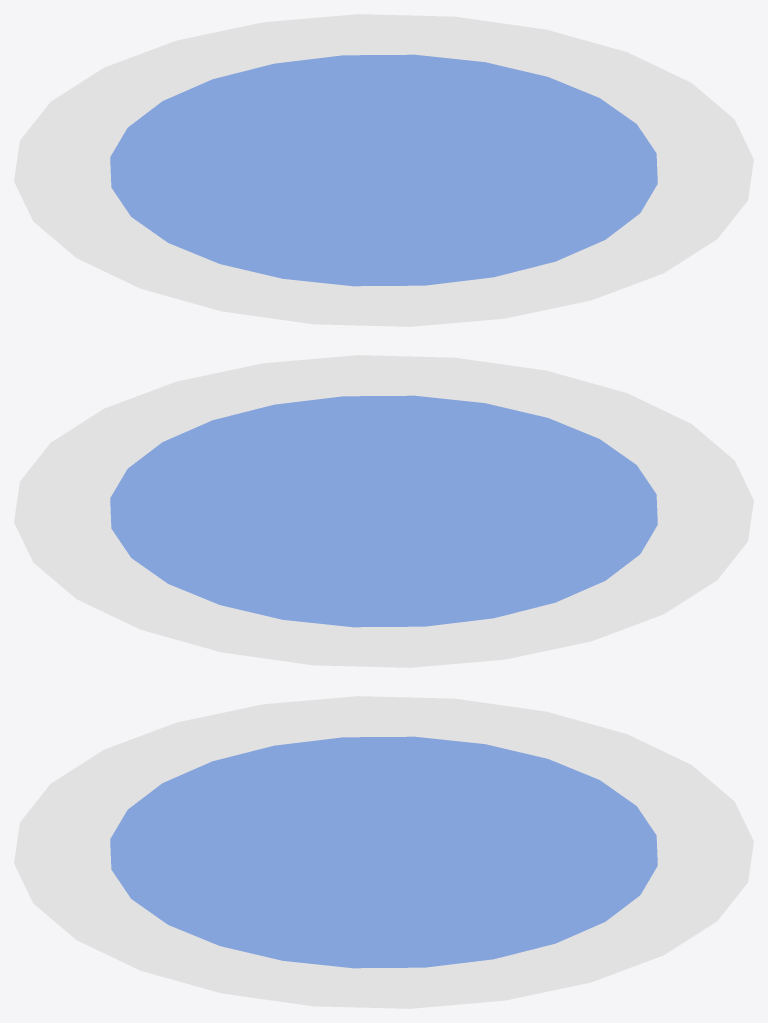
3 views of the same model, one above another, from view 1: azimuth 30°, elevation 25°; view 2: azimuth 150°, elevation 25°; view 3: azimuth 270°, elevation 25° (orthographic).
Parts seen in each view (by area): view 1: SketchUp (×2); view 2: SketchUp (×2); view 3: SketchUp (×2).
Boxes of the visible parts, <box> form: SketchUp (×2): <box>14,14,753,326</box>; SketchUp (×2): <box>14,355,753,667</box>; SketchUp (×2): <box>14,696,753,1008</box>.
Bounding box in the file's own units: 171 × 171 × 0.
